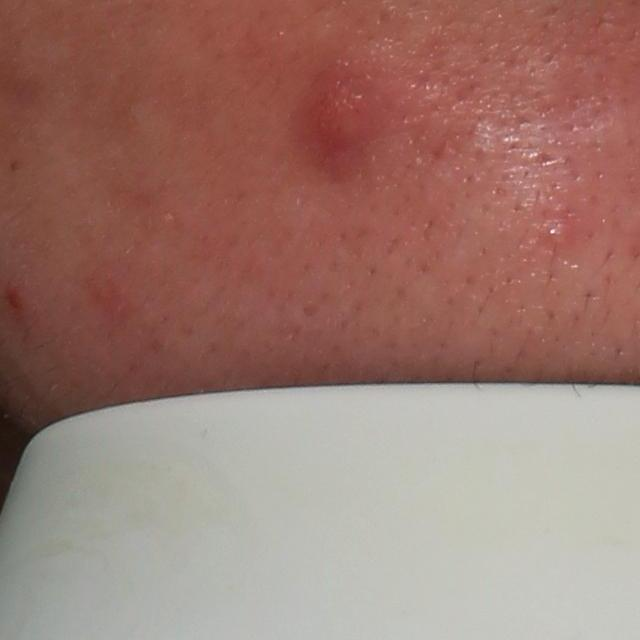papule: (289, 59, 388, 171), (2, 277, 28, 321)
